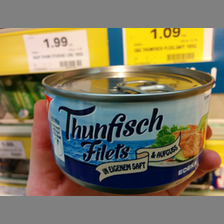fish: (41, 65, 215, 193)
